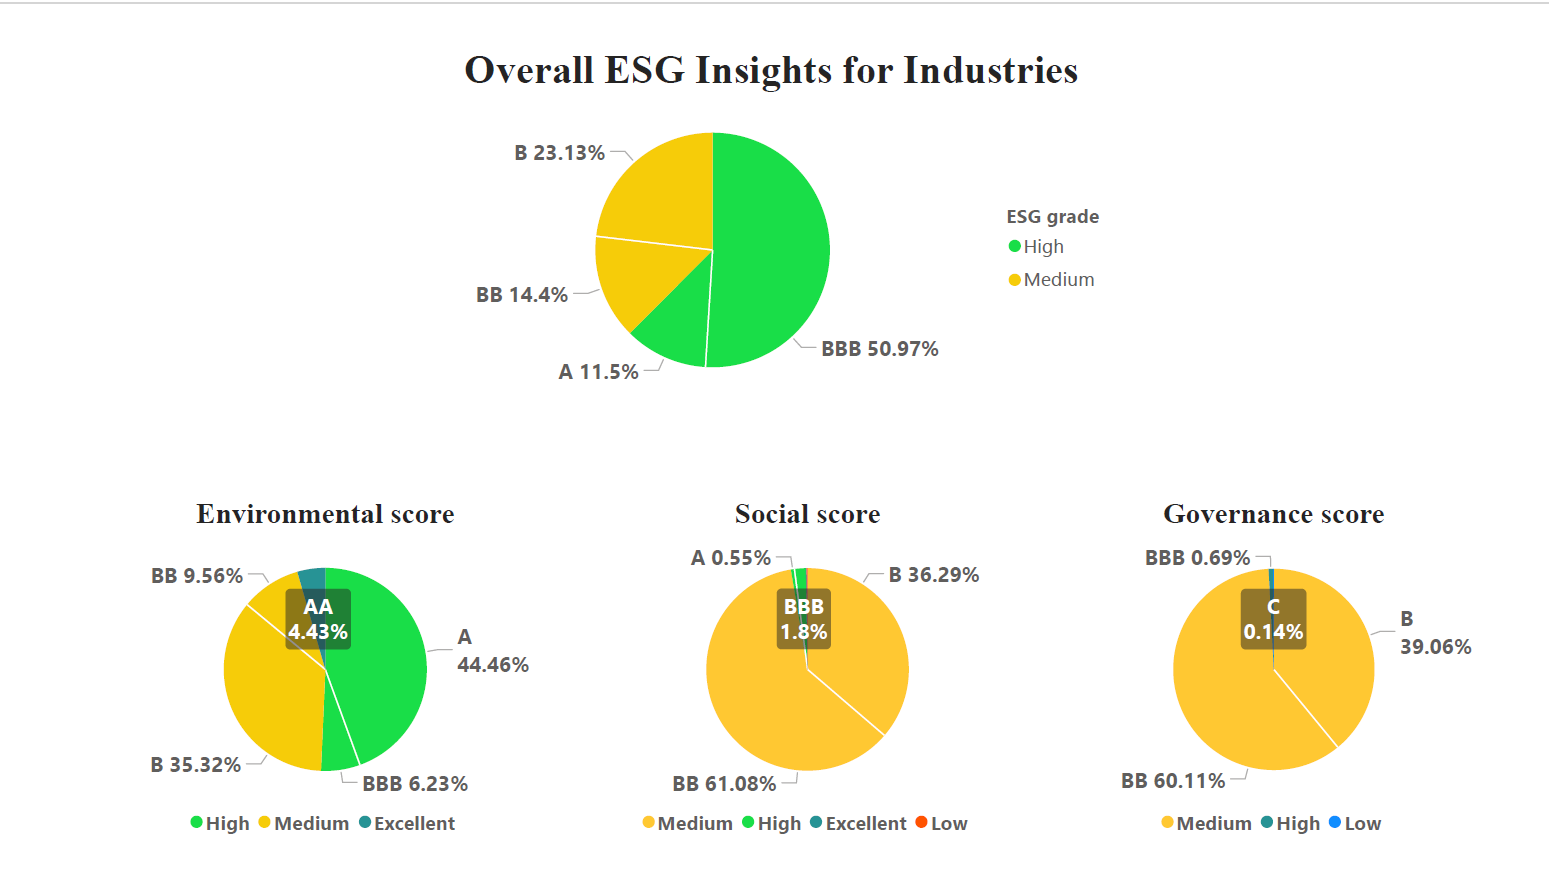

What the dashboard file says about the page in this screenshot:
{"tool":"powerbi","page":{"name":"Overall ESG Insights","canvas":[1280,720],"ordinal":0},"visuals":[{"type":"pieChart","title":"Overall ESG Insights for Industries","fields":{"Y":["CountNonNull(data.industry)"],"Series":["data.total_grade"],"Category":["data.total_level"]},"box":[343.3,30,591.7,298.3],"z":0},{"type":"pieChart","title":"Environmental score","fields":{"Y":["CountNonNull(data.industry)"],"Category":["data.environment_level"],"Series":["data.environment_grade"]},"box":[70,401.7,401.7,288.3],"z":1000},{"type":"pieChart","title":"Social score","fields":{"Y":["CountNonNull(data.industry)"],"Series":["data.Social Grade"],"Category":["data.Social Level"]},"box":[471.7,401.7,393.3,288.3],"z":2000},{"type":"pieChart","title":"Governance score","fields":{"Y":["CountNonNull(data.industry)"],"Series":["data.Governance Grade"],"Category":["data.Governance Level"]},"box":[865,401.7,376.7,288.3],"z":3000}]}

Visuals, with their boxes in screenshot pixels (x1, y1, x2, y2), scaled from the page's 1280x720 canvas onto the 1549x879 screenshot:
"Overall ESG Insights for Industries" pieChart: crop(415, 37, 1131, 401)
"Environmental score" pieChart: crop(85, 490, 571, 842)
"Social score" pieChart: crop(571, 490, 1047, 842)
"Governance score" pieChart: crop(1047, 490, 1503, 842)
